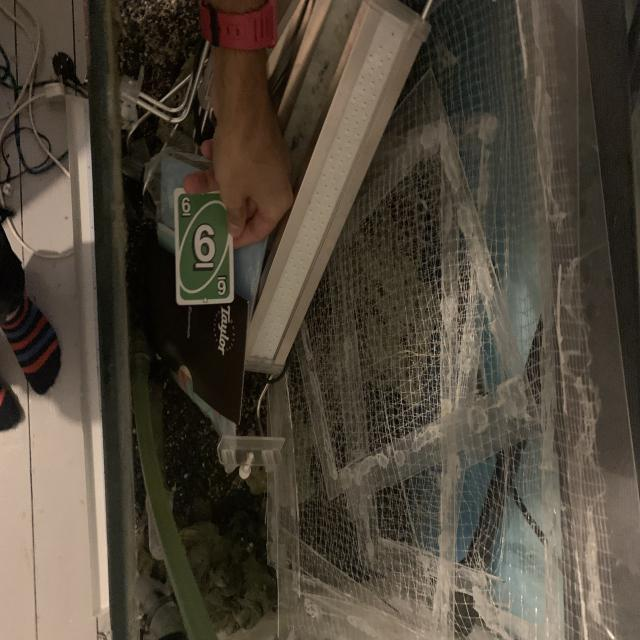lgreen-6: (176, 195, 195, 220)
